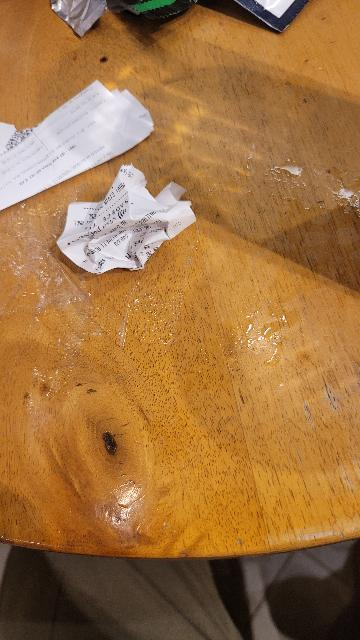Kagit: (69, 169, 190, 278), (40, 77, 156, 168), (0, 118, 100, 210)
